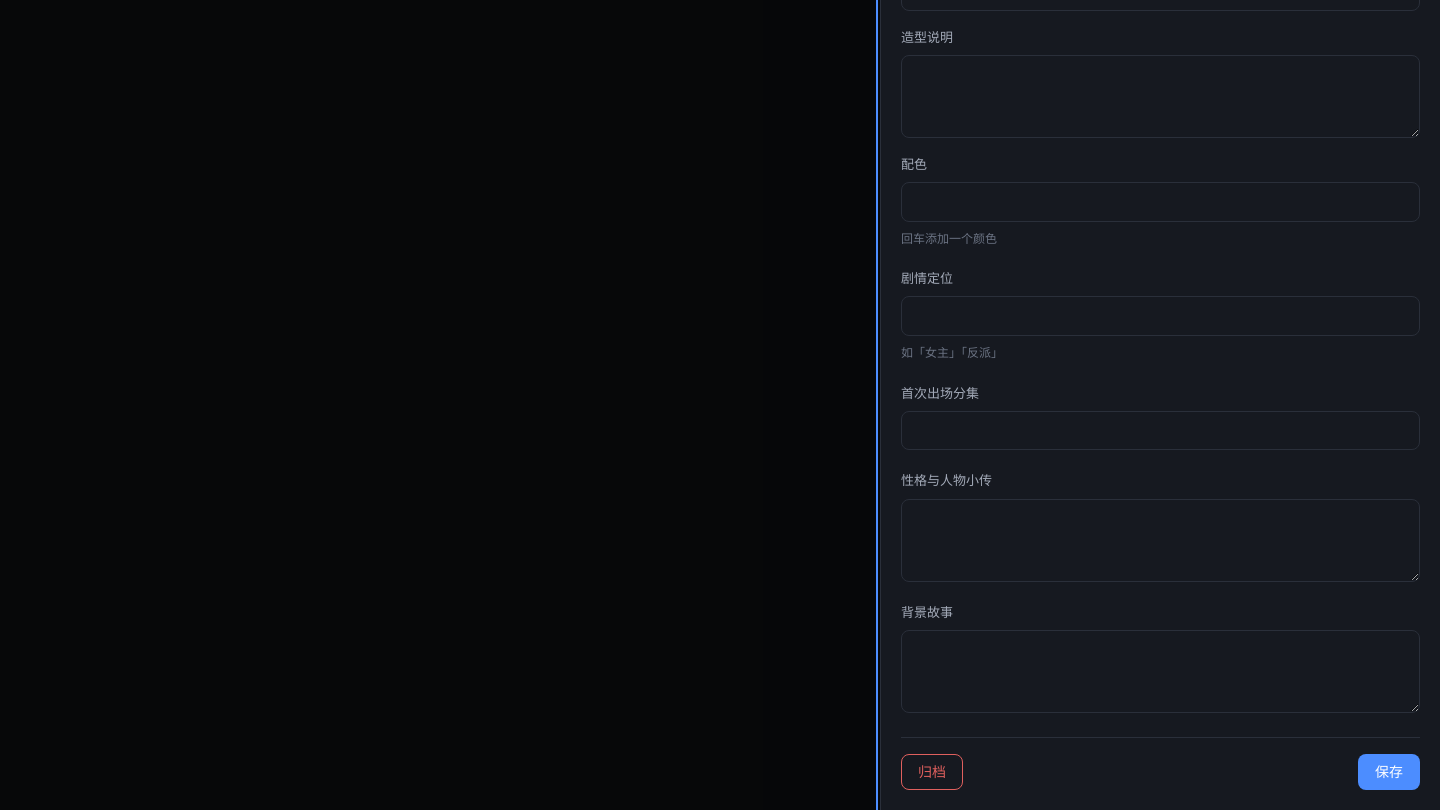
Scenario: AssetDetailDrawer 的归档 › 焦点 Tab 出确认框（落到 body）后按 Esc，仍然只关确认框
The image size is (1440, 810).
(page scrolled)
Click the button "归档" at (932, 772), box [901,754,963,790]
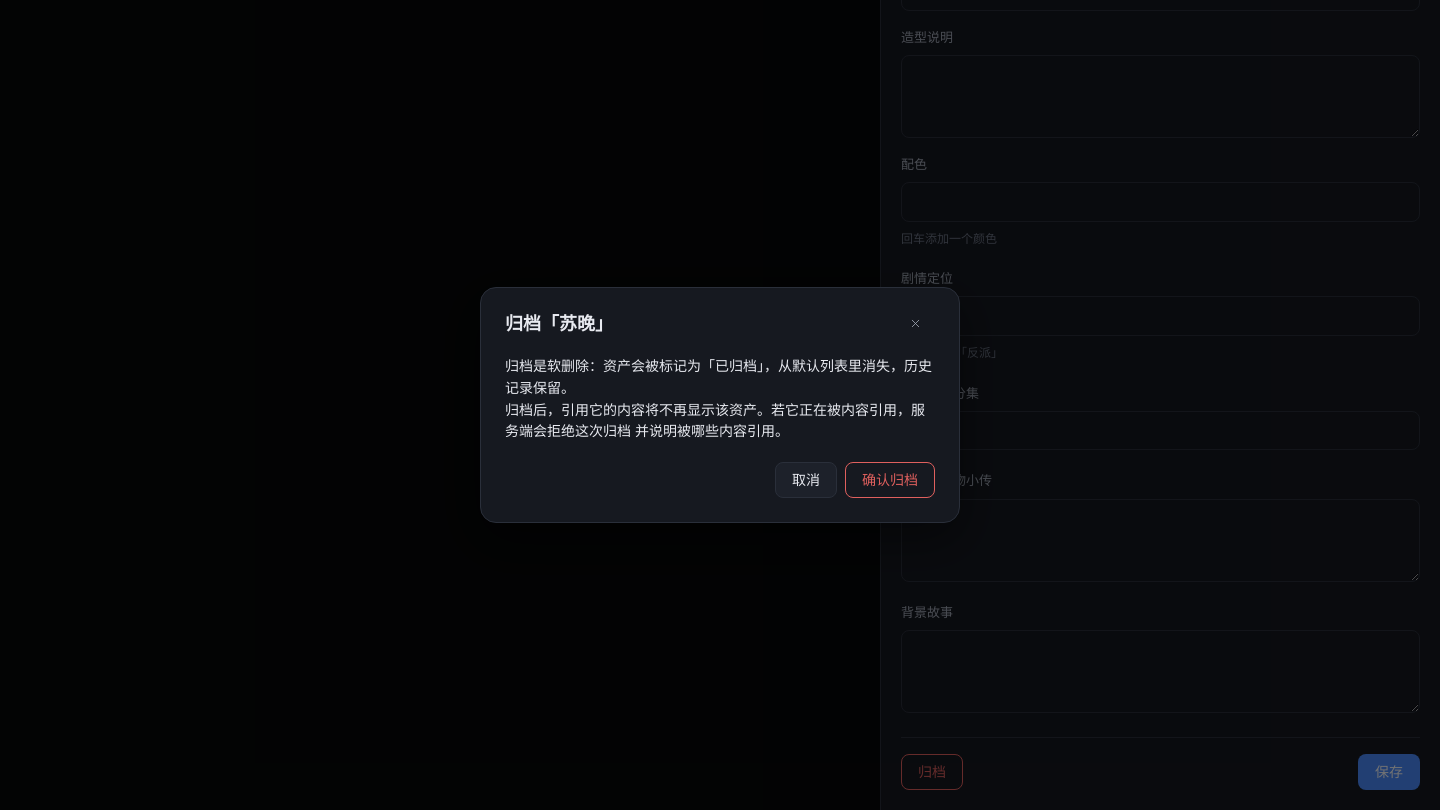
Press Escape
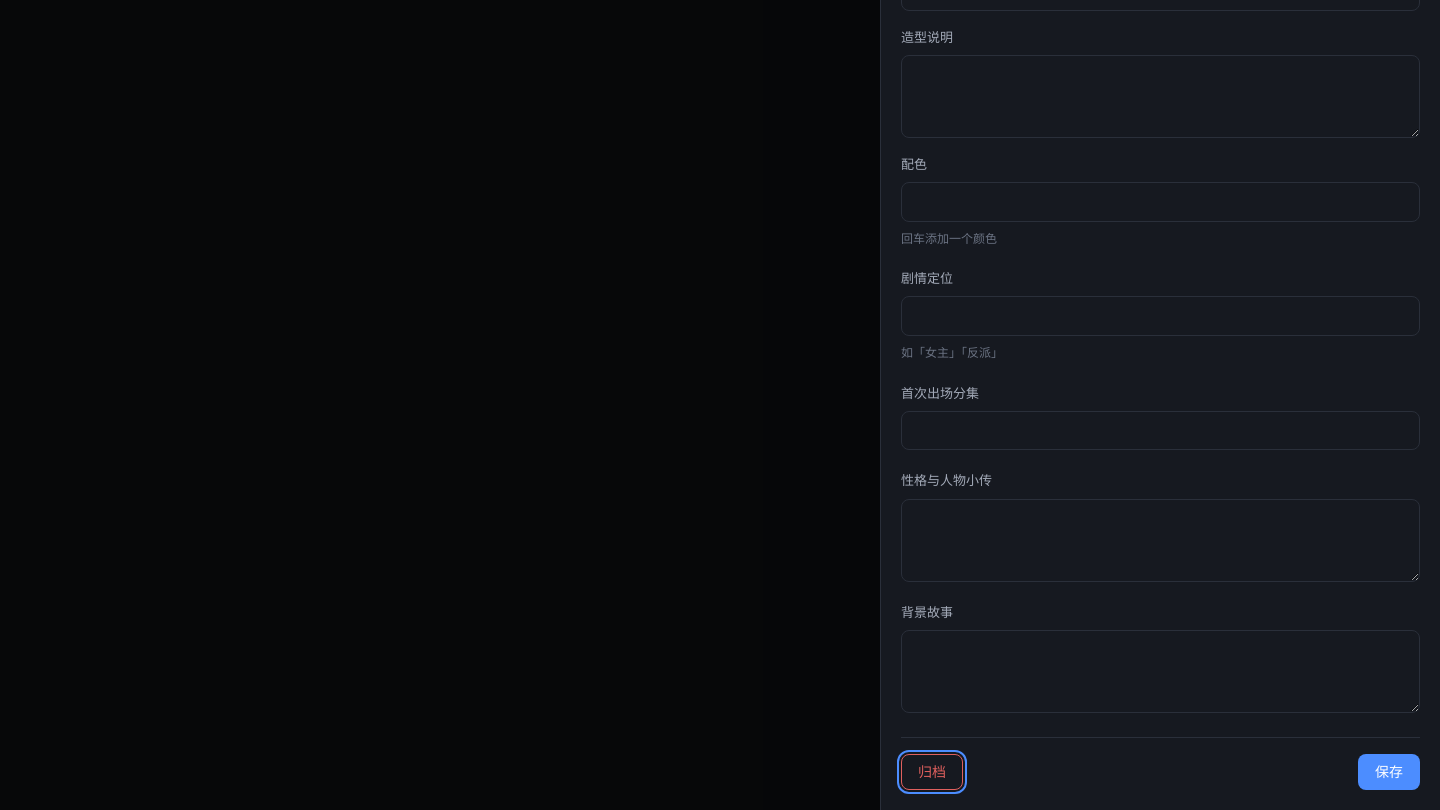
Now the button "确认归档" is gone
